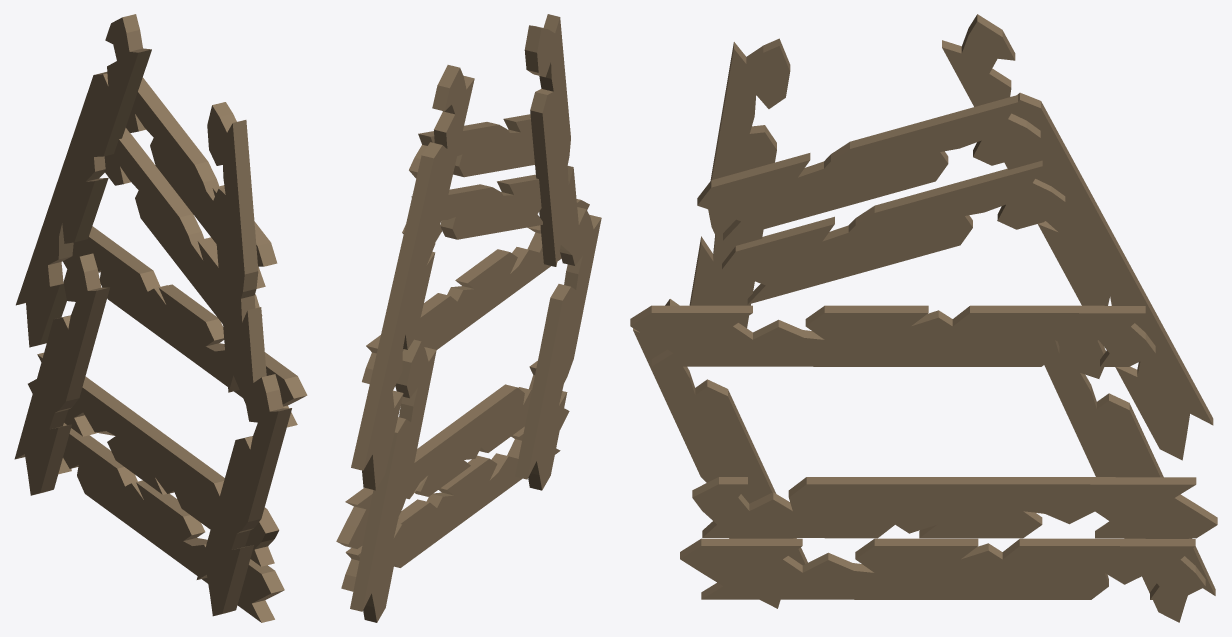
The model's file is WoodBarricade1.fbx.
The picture shows the model from 3 angles, left to right: view 1: azimuth 30°, elevation 25°; view 2: azimuth 150°, elevation 25°; view 3: azimuth 270°, elevation 25°; orthographic projection. The views are drawn at different scales.
Visible parts, largest first — view 1: WoodBarricade1; view 2: WoodBarricade1; view 3: WoodBarricade1.
Boxes of the visible parts, bbox=[...] form: WoodBarricade1: bbox=[14, 14, 307, 622]; WoodBarricade1: bbox=[336, 14, 601, 622]; WoodBarricade1: bbox=[630, 14, 1217, 622].
Size of the model in its own units: 0.2329 by 4.32 by 3.83.
